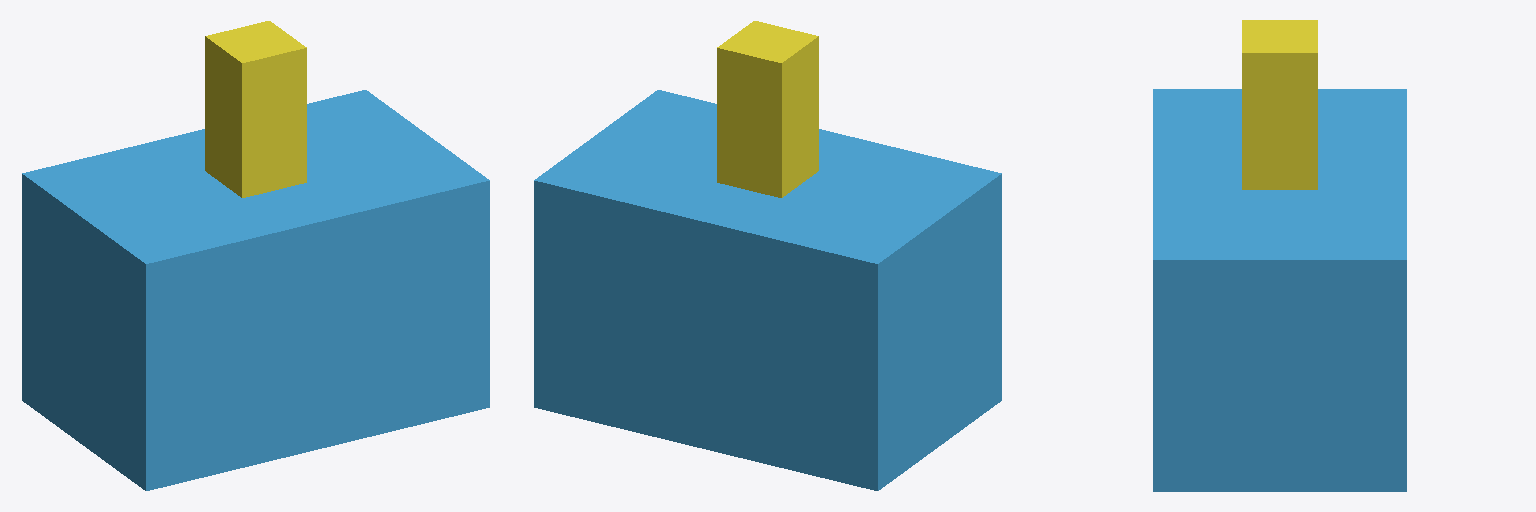
URDF robot description (boldbot):
<?xml version="1.0" ?>
<robot name="boldbot" xmlns:xacro="http://www.ros.org/wiki/xacro">
  <!-- dummy first link, directly connects with torse -->
  <link name="base_link" />

  <joint name="base_joint" type="fixed">
    <child link="torso"/>
    <parent link="base_link"/>
    <origin xyz="0 0 0" rpy="0 0 0" />
  </joint>
  
  <link name="torso">
    <visual>
      <origin rpy="0 0 0" xyz="0 0 0" />
      <geometry>
        <box size="0.16 0.1 0.101"/>
      </geometry>
    </visual>
  </link>

  <joint name="head_pan_joint" type="continuous">
    <parent link="torso" />
    <child link="neck" />
    <origin rpy="0 0 0" xyz="0 0 0.0505" />
    <axis xyz="0 0 1" />
  </joint>

  <link name="neck">
    <visual>
      <origin rpy="0 0 0" xyz="0 0 0" />
      <geometry>
        <box size="0.02 0.02 0.02"/>
      </geometry>
    </visual>
  </link>

  <joint name="head_tilt_joint" type="continuous">
    <parent link="neck" />
    <child link="head" />
    <origin rpy="0 0 0" xyz="0 0 0" />
    <axis xyz="1 0 0" />
  </joint>

  <link name="head">
    <visual>
      <origin rpy="0 0 0" xyz="0 0 0.03"/>
      <geometry>
        <box size="0.03 0.03 0.06" />
      </geometry>
    </visual>
  </link>
</robot>

--- Render facts (derived) ---
Views: 3 orthographic renders of the robot side by side, from view 1: azimuth 30°, elevation 25°; view 2: azimuth 150°, elevation 25°; view 3: azimuth 270°, elevation 25°.
Model boldbot with 4 links and 3 joints (2 continuous, 1 fixed), rooted at base_link, posed every joint at zero.
Visible links, largest first — view 1: torso, head; view 2: torso, head; view 3: torso, head.
Link boxes in pixels (x1=…): torso: x1=22, y1=90, x2=489, y2=490; head: x1=205, y1=21, x2=306, y2=197; torso: x1=534, y1=90, x2=1001, y2=490; head: x1=717, y1=21, x2=818, y2=197; torso: x1=1153, y1=89, x2=1406, y2=491; head: x1=1242, y1=20, x2=1317, y2=189.
Size in the robot's own frame: 0.16 by 0.1 by 0.161 metres.
Geometry: primitives only (box / cylinder / sphere), no mesh files.